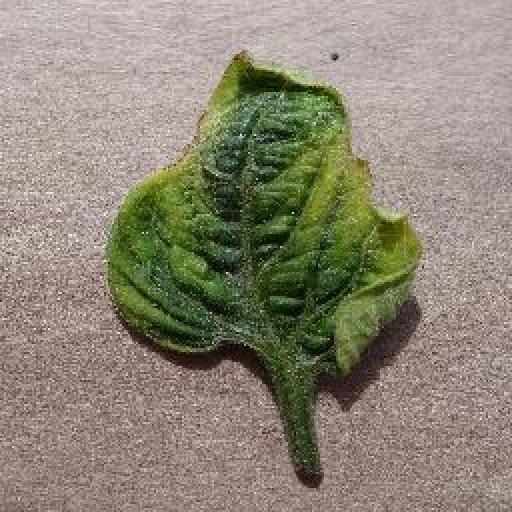Yellow Leaf Curl Virus: (107, 47, 426, 377)
